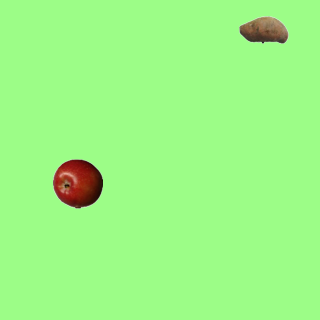Apple Braeburn: (52, 158, 102, 208)
Potato Sweet: (238, 4, 288, 54)
